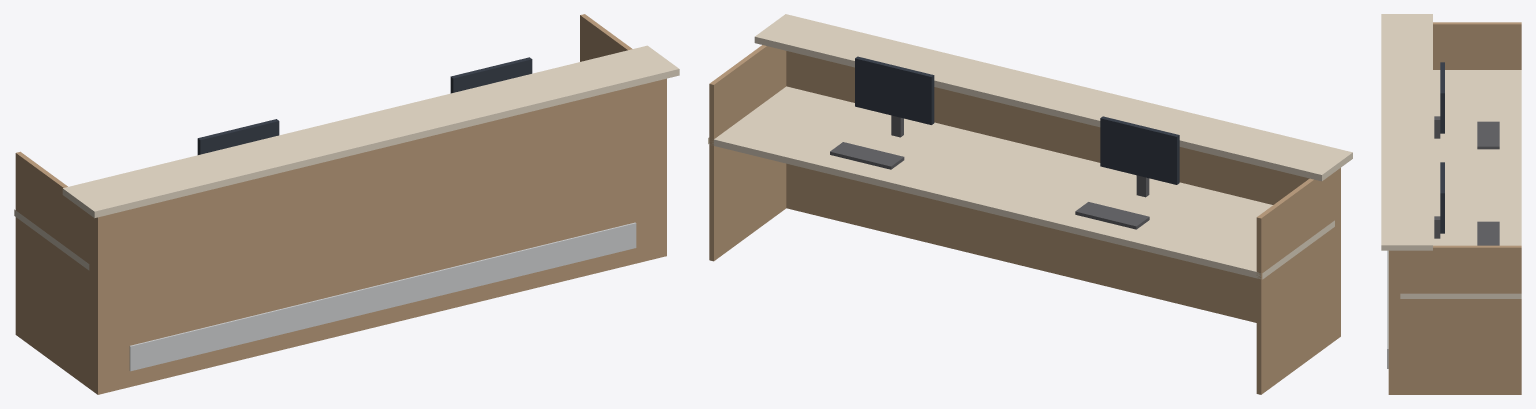
Rendered from Reception_Counter.fbx.
3 renders of one model, left to right at view 1: azimuth 30°, elevation 25°; view 2: azimuth 150°, elevation 25°; view 3: azimuth 270°, elevation 25°, orthographic. The views are drawn at different scales.
Visible parts, largest first — view 1: Reception_Counter; view 2: Reception_Counter; view 3: Reception_Counter.
Part boxes in pixels (x1,y1,x2,y2): Reception_Counter: [14, 14, 679, 394]; Reception_Counter: [708, 14, 1352, 394]; Reception_Counter: [1381, 14, 1521, 394].
Size of the model in its own units: 3.7 by 1.2 by 0.95.
